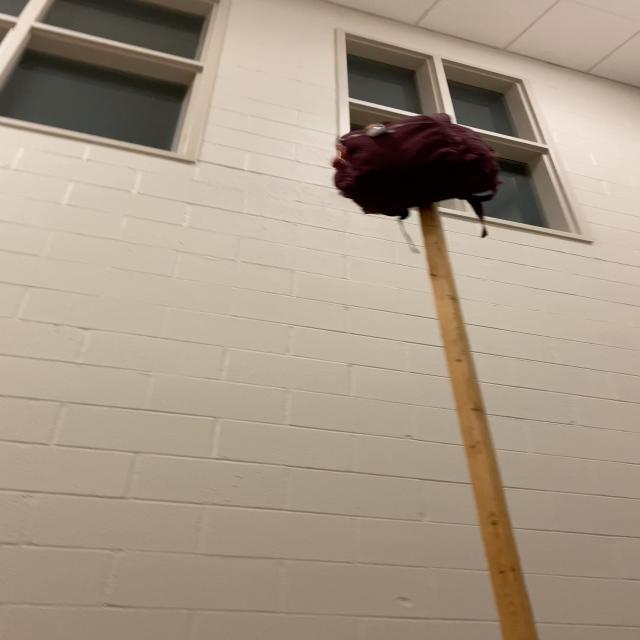Backpacks: (324, 110, 514, 225)
